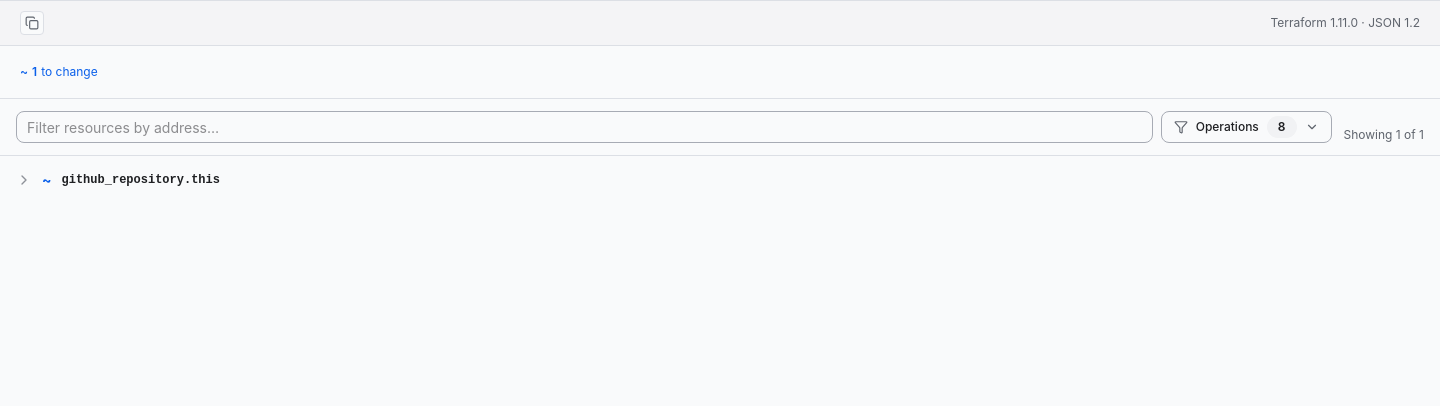
Scenario: renders structured terraform-style diff lines for changed list elements
Click the text "github_repository.this".
click(141, 180)  # box [62,172,220,188]
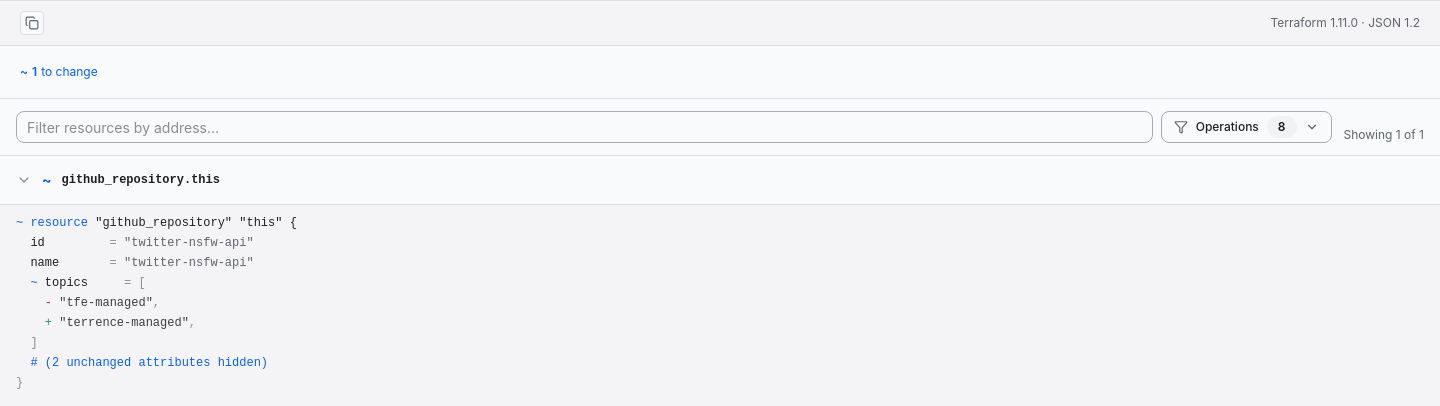
Result: the text "\"tfe-managed\"" is shown at [59,296,153,310]
Result: the text "\"terrence-managed\"" is shown at [59,316,189,330]
Result: the text "~ resource" is shown at [16,216,95,230]
